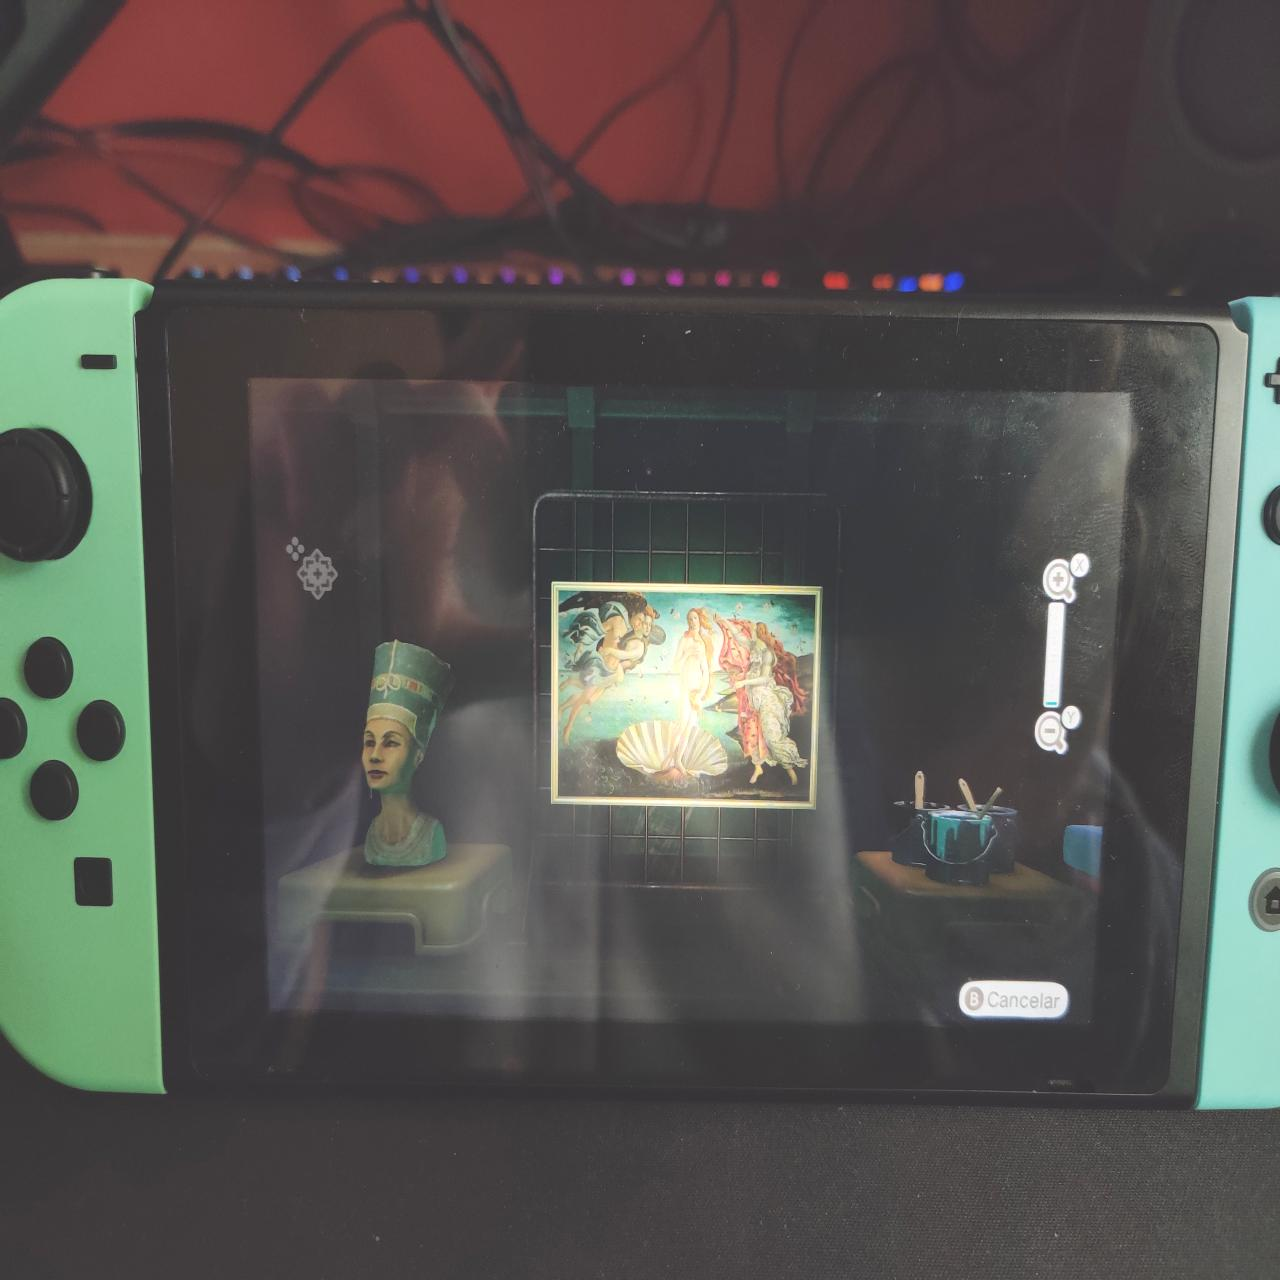BirthVenusFake: (560, 588, 812, 801)
Nefertiti: (355, 627, 461, 871)
